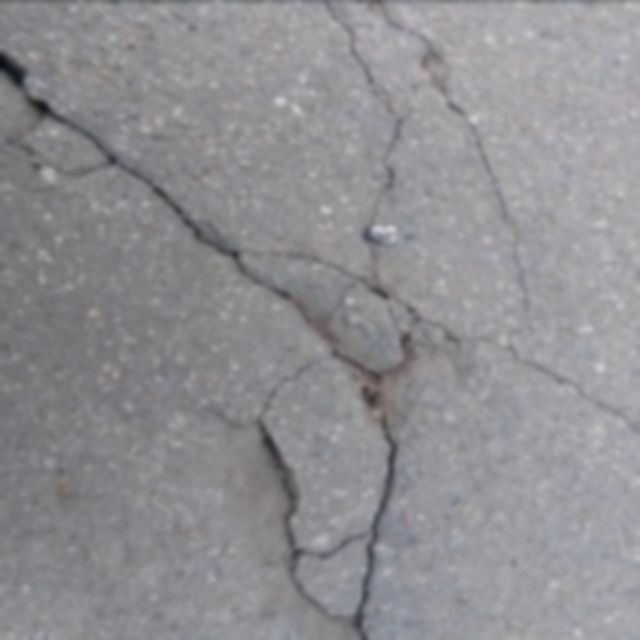SurfaceCrack: (4, 16, 430, 640)
